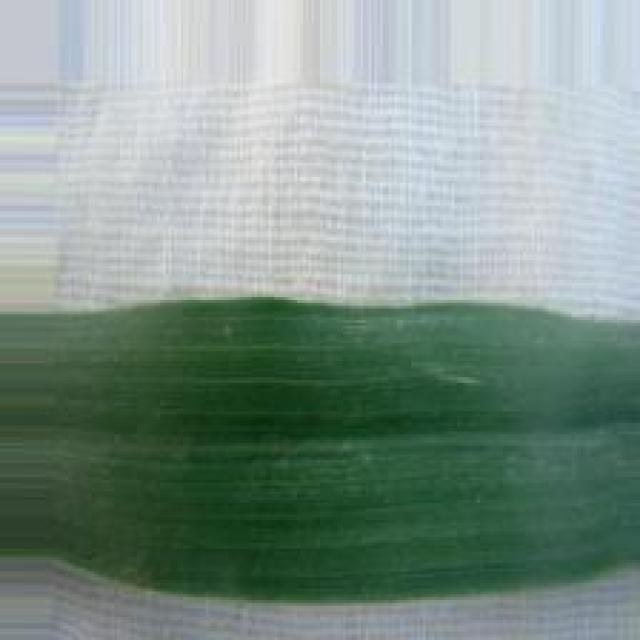Healthy: (0, 302, 640, 602)
